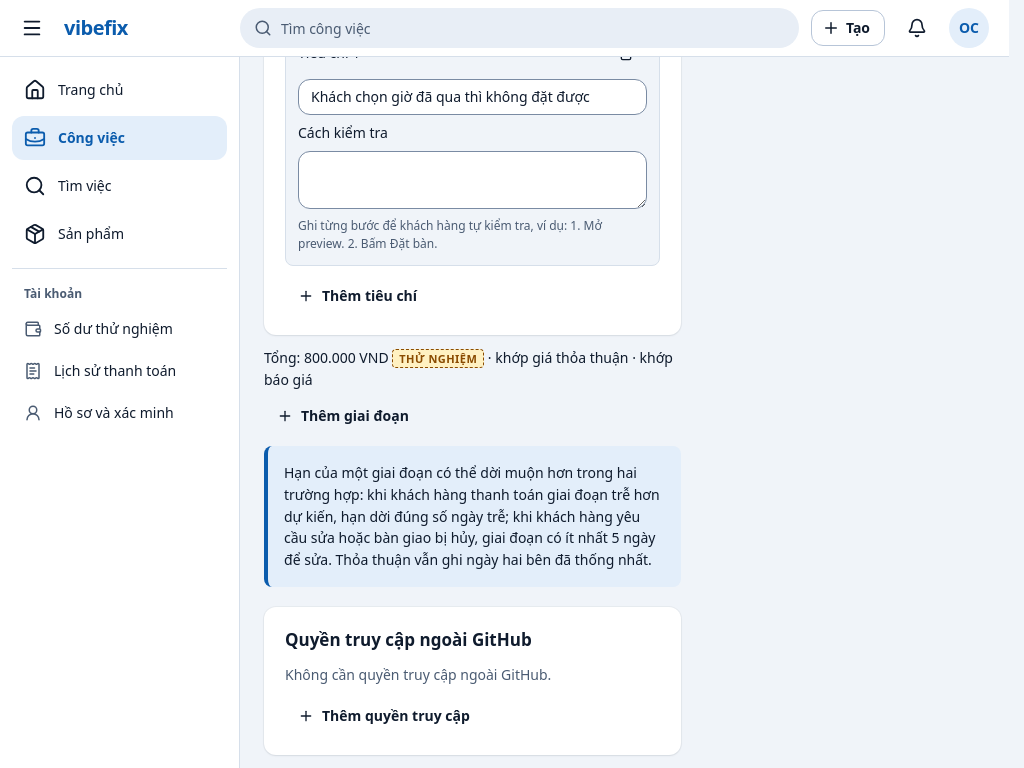
Test: JOB-6 for the Mentor: draft the Agreement (FR-16) › adds a Milestone with new IDs and its first criterion
(page scrolled)
Click the button "Thêm giai đoạn" at (343, 416), box [264, 398, 422, 434]
(page scrolled)
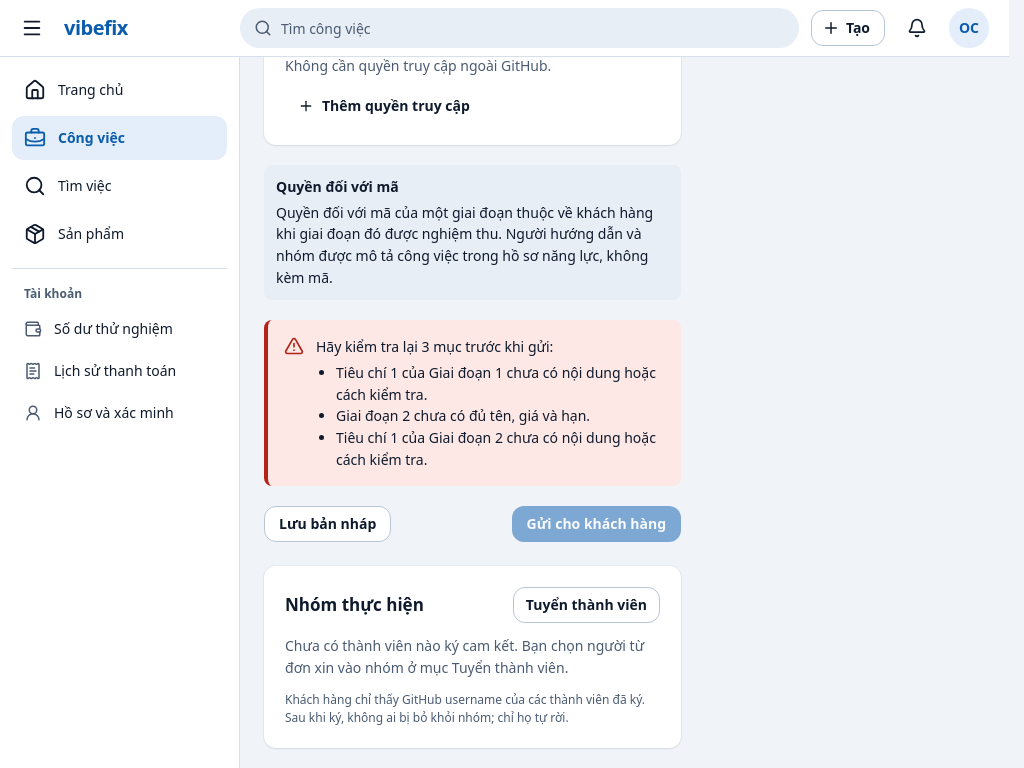
Check: the list item "Giai đoạn 2 chưa có đủ tên, giá và hạn." is shown, box [336, 406, 590, 425]
